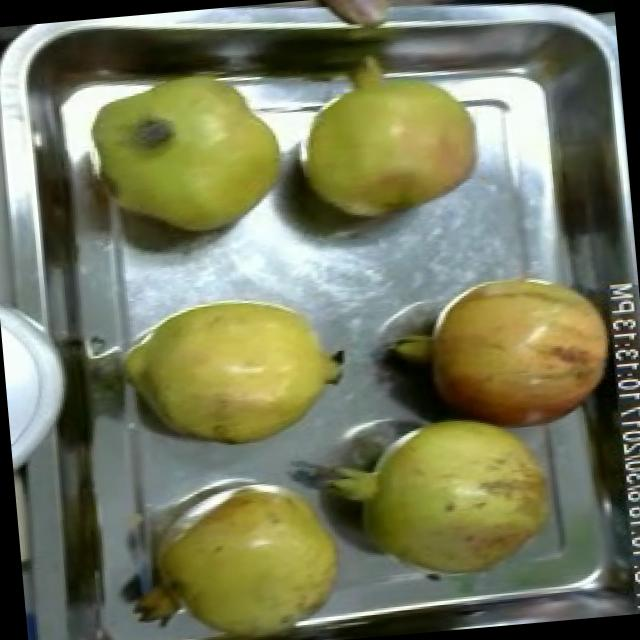fruit: (99, 276, 363, 467), (61, 52, 302, 255), (384, 254, 638, 446), (117, 459, 365, 640), (341, 402, 569, 594), (280, 48, 500, 232)
